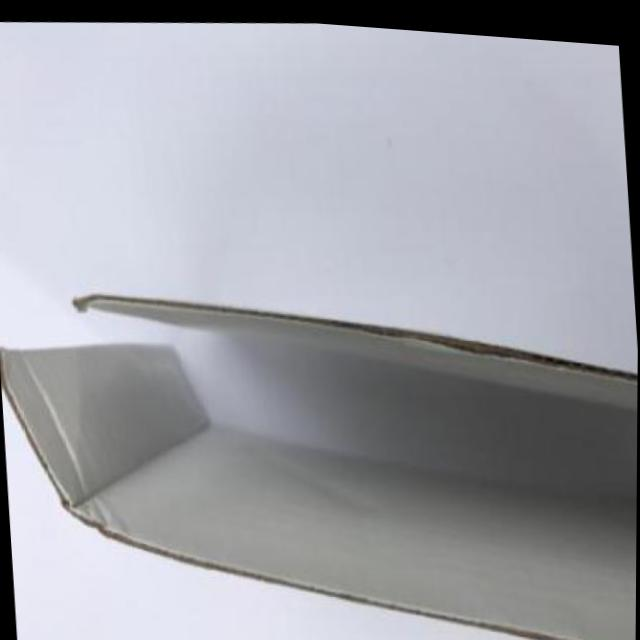box: (0, 224, 639, 640)
